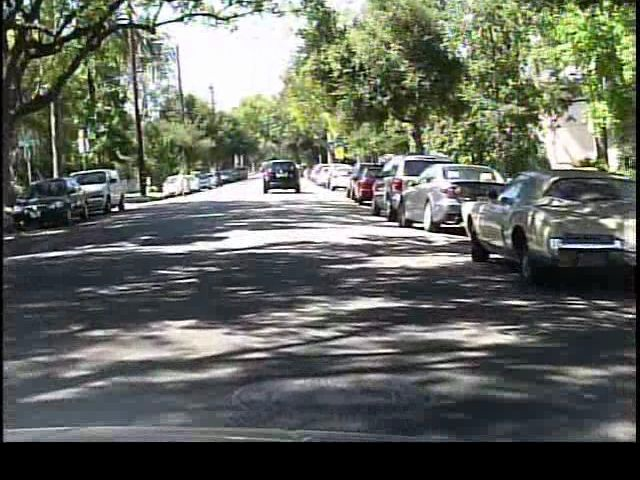person: (174, 167, 191, 201)
